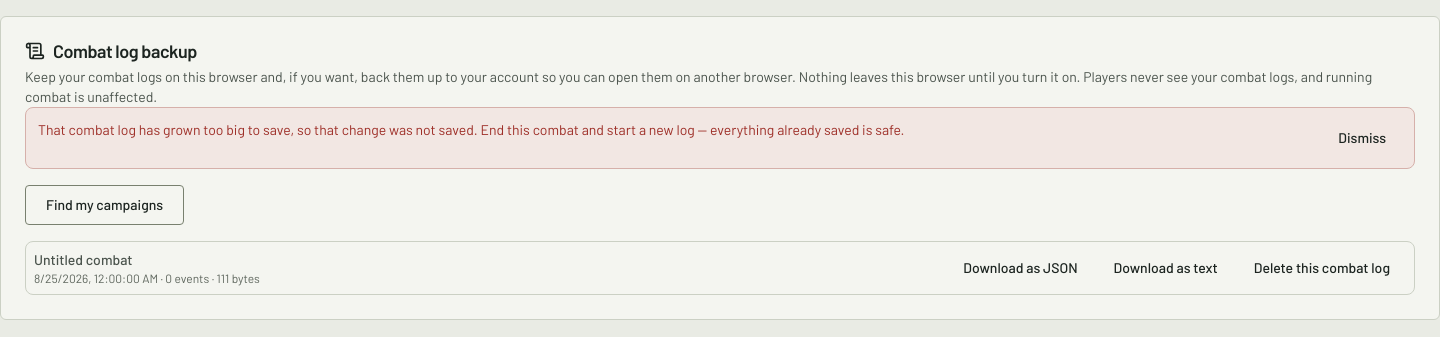
Test: CombatLogArchiveSyncControls card › explains a refused combat log event in plain language and clears it on dismiss
Click the button "Dismiss" at (1362, 138), box [1322,120,1402,156]
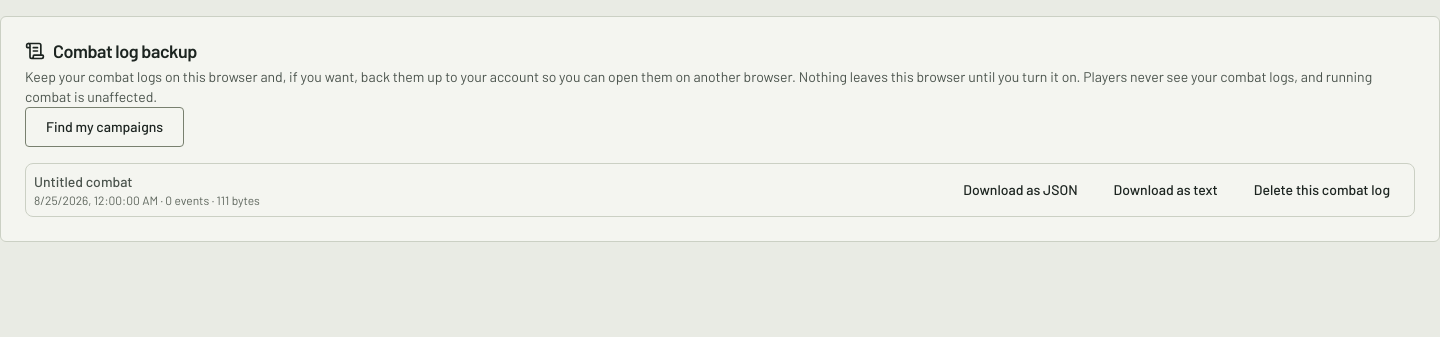
Now the message is gone
